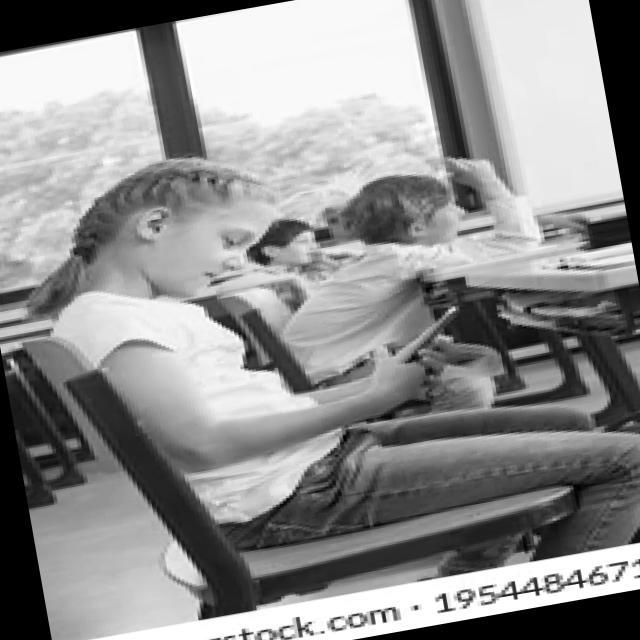phone: (382, 302, 466, 366)
